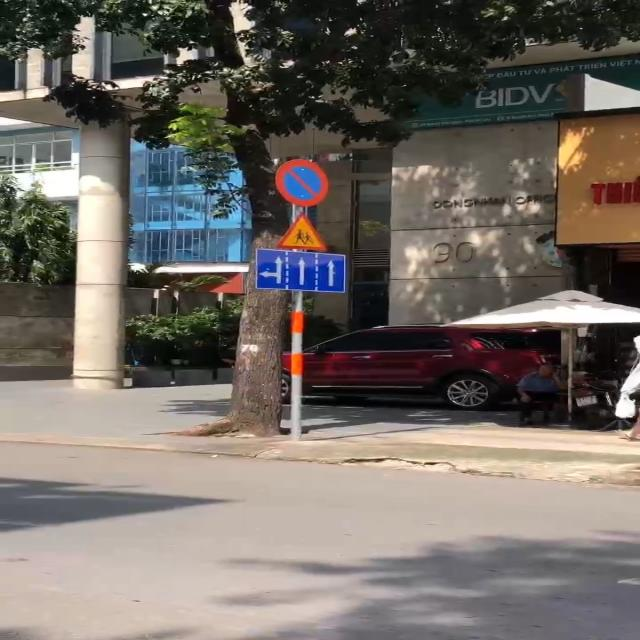Bien bao cam do xe: (269, 156, 336, 208)
Bien bao tre em: (275, 209, 337, 254)
